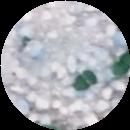Basil: (112, 51, 130, 74), (75, 72, 95, 91)
